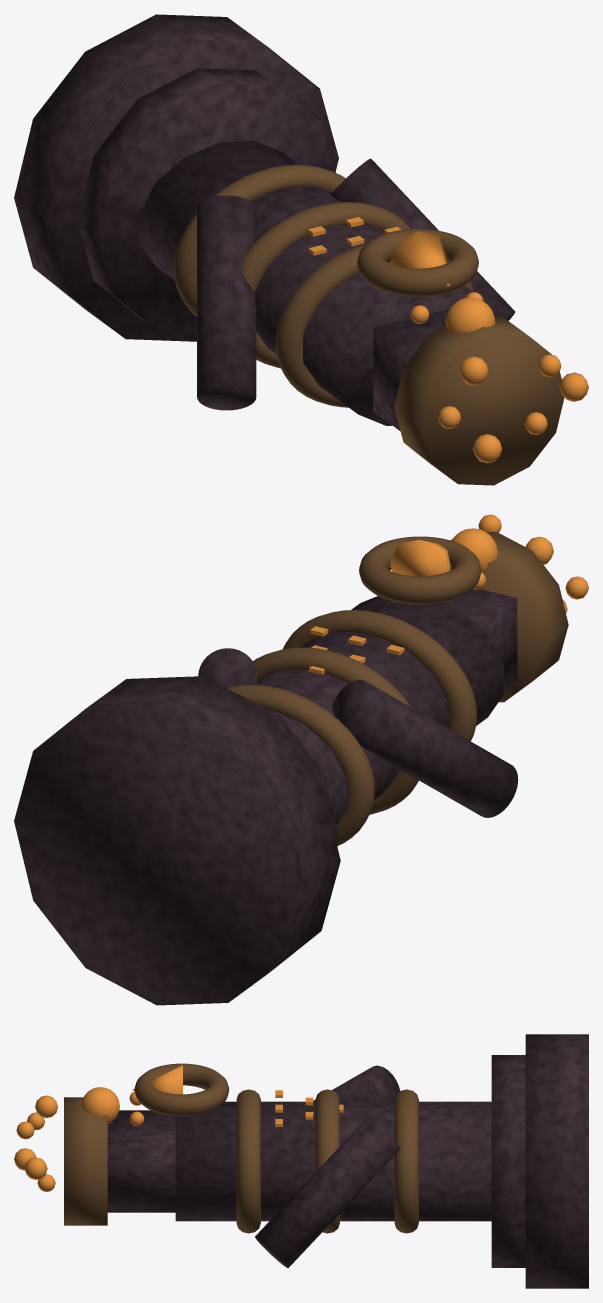
File: 05_guardiao_oraculo_correntes.obj
The picture shows the model from 3 angles, top to bottom: view 1: azimuth 30°, elevation 25°; view 2: azimuth 150°, elevation 25°; view 3: azimuth 270°, elevation 25°; orthographic projection. The views are drawn at different scales.
Parts seen in each view (by area): view 1: Cylinder, Cylinder.001, Cylinder.002, Cylinder.003, Cylinder.005, Torus.003, Torus.002, Torus.001, Torus, Cube, Cylinder.004, Cone (+4 smaller); view 2: Cylinder, Cylinder.002, Cylinder.005, Cylinder.003, Torus.002, Torus, Torus.003, Torus.001, Cube, Cone, Cylinder.004, Cylinder.001 (+1 smaller); view 3: Cylinder.002, Cylinder, Cylinder.004, Cylinder.001, Cube, Cylinder.003, Torus.002, Torus, Torus.003, Torus.001, Cylinder.005, Icosphere (+3 smaller).
Part boxes in pixels (box(x1,y1,x2,y2)): Cylinder: box(14, 14, 338, 341); Cylinder.001: box(77, 68, 335, 332); Cylinder.002: box(139, 140, 495, 425); Cylinder.003: box(394, 315, 564, 485); Cylinder.005: box(197, 195, 256, 410); Torus.003: box(357, 229, 478, 296); Torus.002: box(275, 244, 473, 407); Torus.001: box(242, 202, 410, 368); Torus: box(174, 164, 345, 316); Cube: box(373, 309, 448, 430); Cylinder.004: box(330, 158, 515, 320); Cone: box(389, 231, 449, 286); Cylinder: box(14, 676, 340, 1005); Cylinder.002: box(257, 596, 503, 824); Cylinder.005: box(332, 680, 518, 817); Cylinder.003: box(451, 532, 568, 702); Torus.002: box(283, 610, 476, 741); Torus: box(227, 684, 374, 845); Torus.003: box(359, 536, 481, 604); Torus.001: box(253, 647, 418, 814); Cube: box(444, 589, 517, 691); Cone: box(390, 540, 450, 576); Cylinder.004: box(198, 648, 257, 687); Cylinder.001: box(214, 684, 339, 846); Cylinder.002: box(175, 1101, 491, 1221); Cylinder: box(525, 1034, 588, 1288); Cylinder.004: box(255, 1117, 400, 1268); Cylinder.001: box(491, 1055, 525, 1267); Cube: box(107, 1110, 175, 1212); Cylinder.003: box(64, 1097, 107, 1225); Torus.002: box(236, 1089, 260, 1233); Torus: box(394, 1089, 418, 1233); Torus.003: box(134, 1063, 229, 1116); Torus.001: box(315, 1089, 339, 1233); Cylinder.005: box(313, 1065, 399, 1101); Icosphere: box(81, 1087, 119, 1123).
Size of the model in its own units: 2.32 by 2.1 by 4.73.
Materials: 27 (27 with a texture image).
